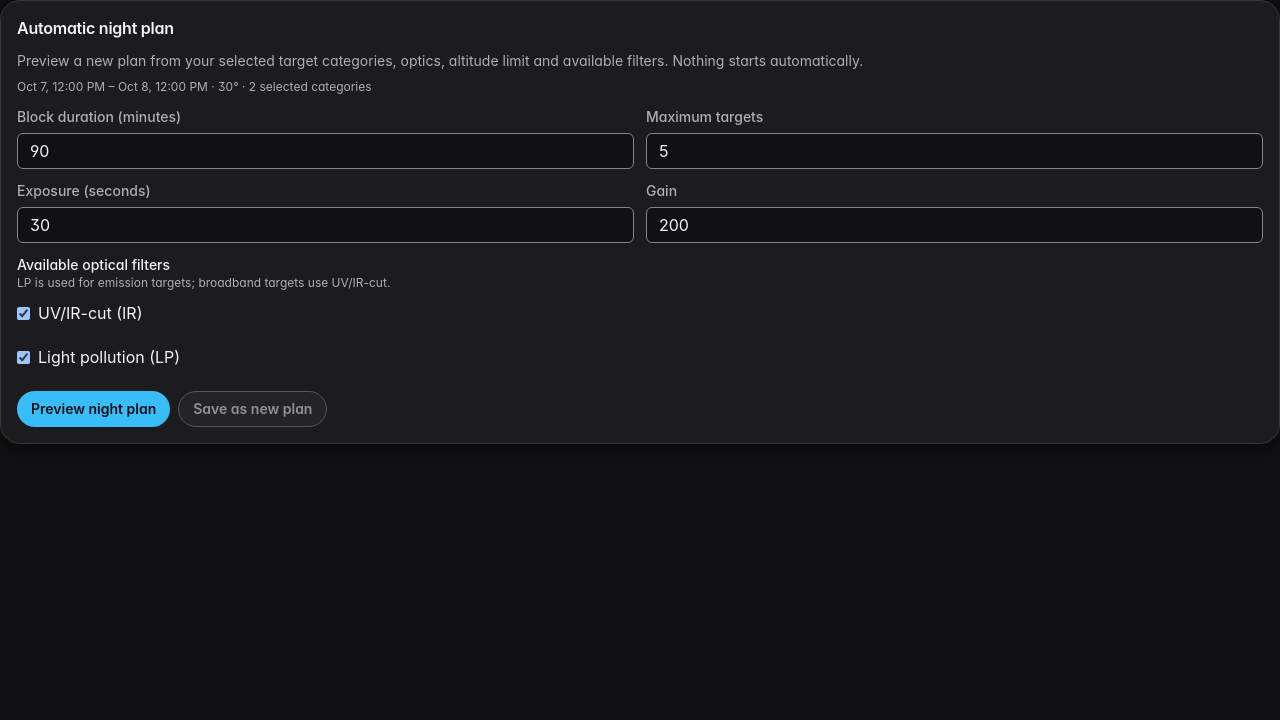
AutoNightPanel › sends selected constraints and saves a new dated plan without starting a run
Click the button "Preview night plan" at [94, 409], box [17, 391, 170, 427]
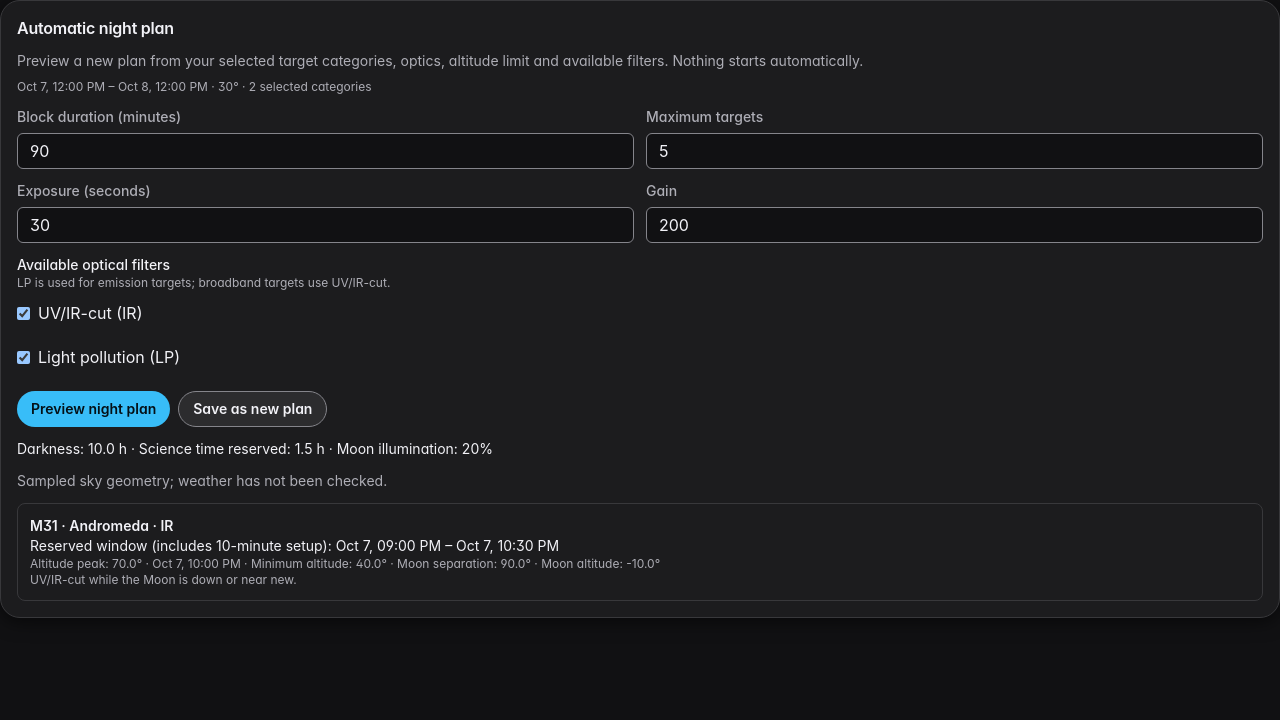
Expected: the text "M31 · Andromeda · IR" is shown, [30, 517, 174, 534]
Click the button "Save as new plan" at [253, 409], box [178, 391, 328, 427]
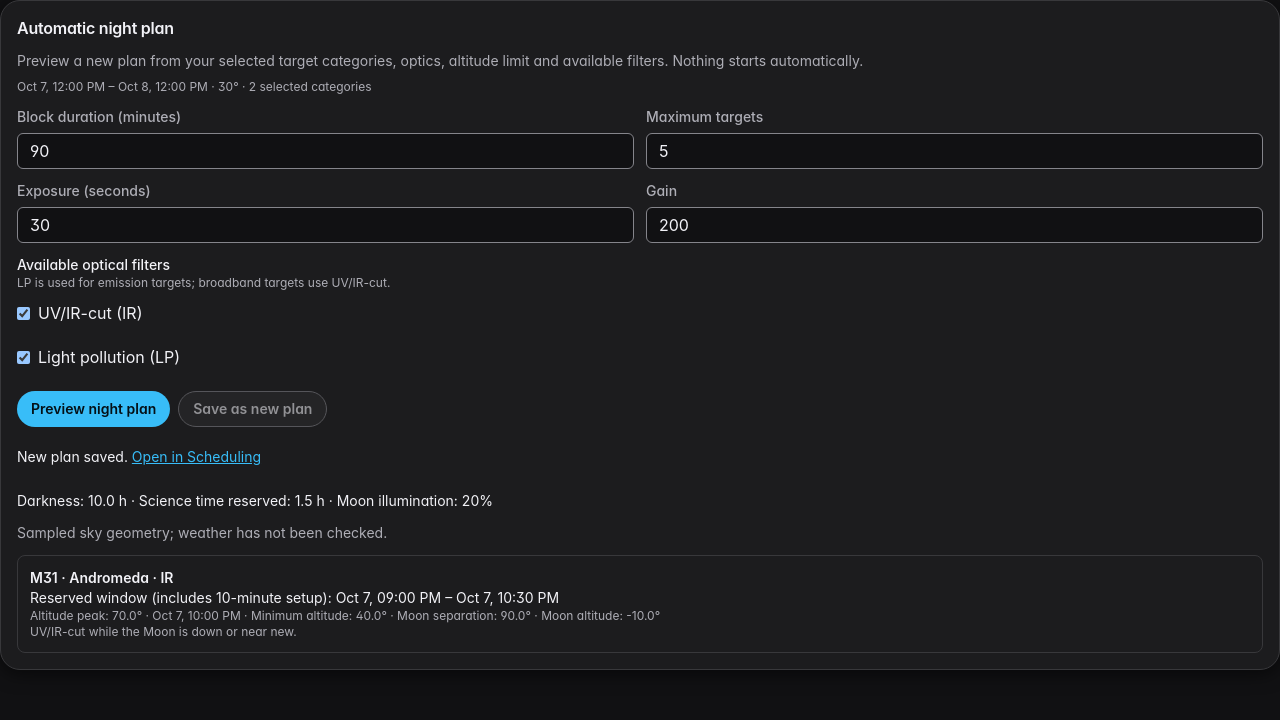
Expected: the text "New plan saved." is shown, [17, 448, 128, 465]
Expected: the button "Save as new plan" is disabled, [178, 391, 328, 427]
